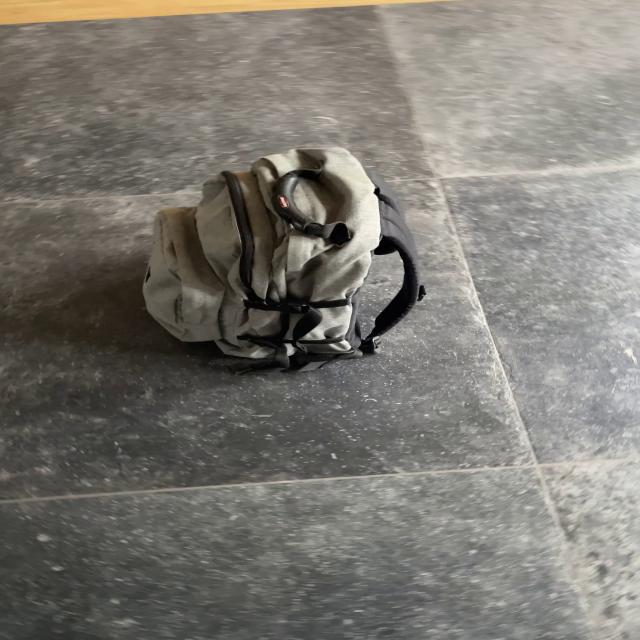backpack: (124, 140, 430, 374)
